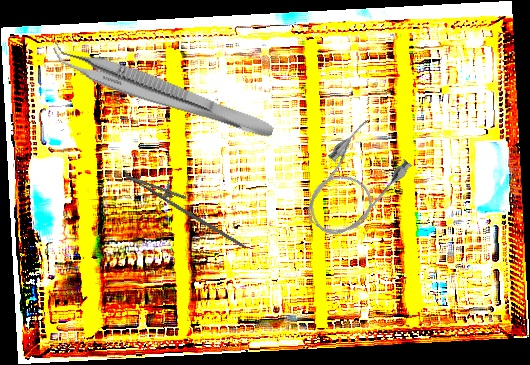Cannula: (289, 115, 417, 249)
Needle Holder: (117, 164, 258, 249)
Tissue Forceps: (46, 38, 280, 142)
